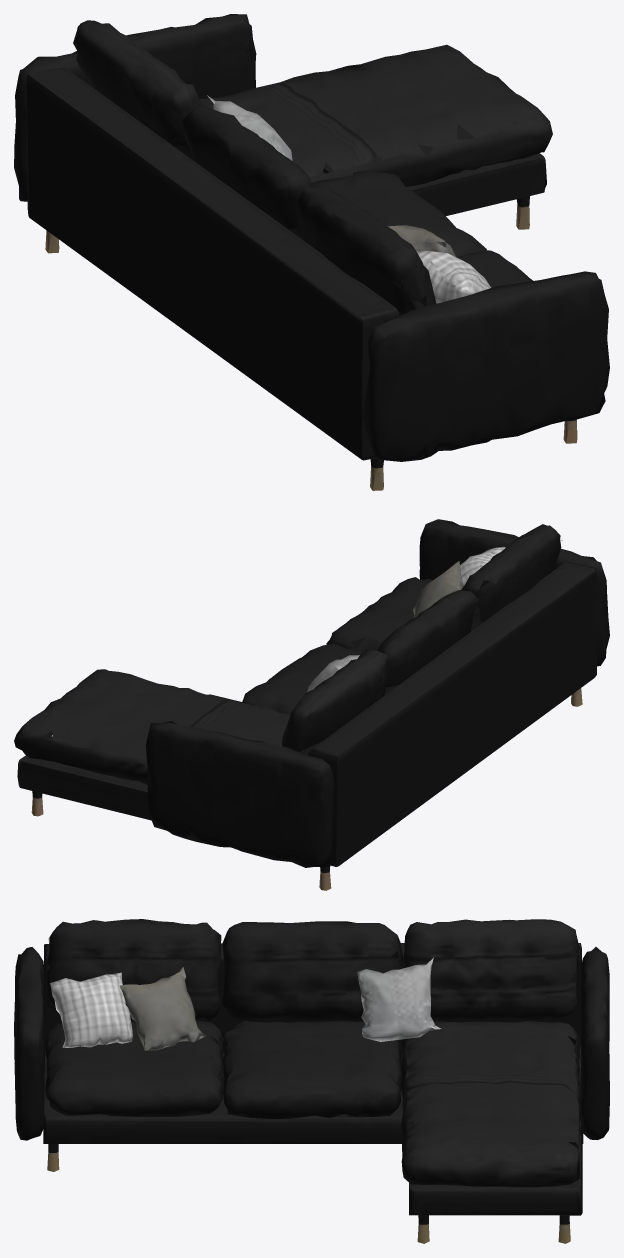
File: M_Sofa0012.obj
The picture shows the model from 3 angles, top to bottom: view 1: azimuth 30°, elevation 25°; view 2: azimuth 150°, elevation 25°; view 3: azimuth 270°, elevation 25°; orthographic projection. The views are drawn at different scales.
Size of the model in its own units: 1.62 by 0.833 by 2.44.
1 material, 1 textured.
